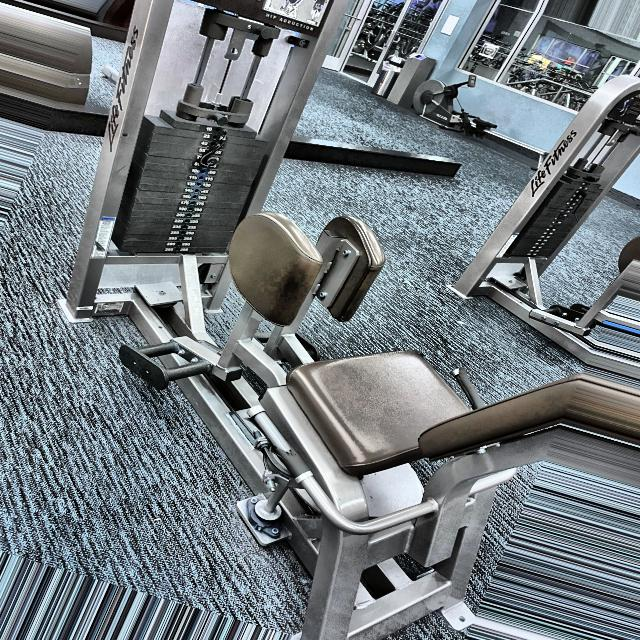hip_adduction_machine: (176, 179, 440, 436), (262, 8, 320, 32)
